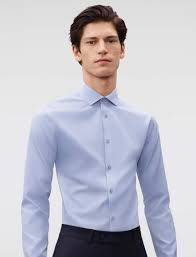F_dress pants: (47, 226, 148, 257)
F_shirt: (8, 80, 186, 257)
